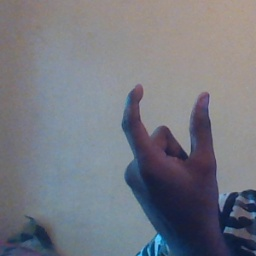U: (112, 81, 226, 216)
